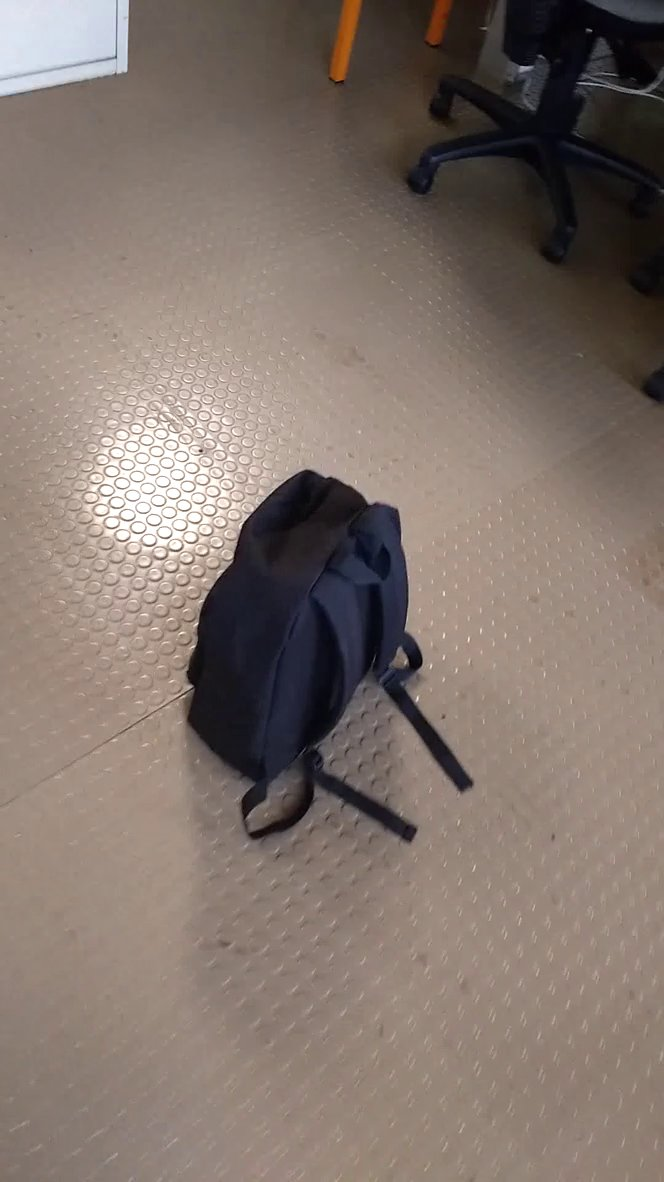bag: (181, 453, 498, 872)
